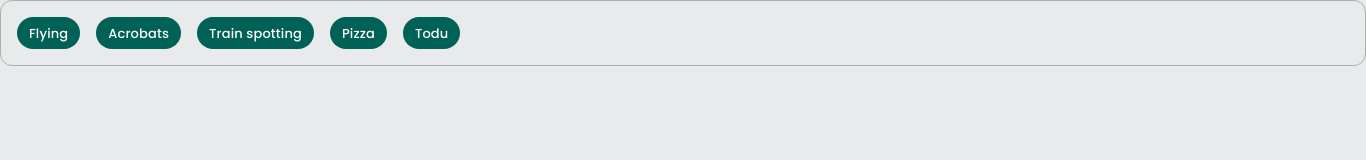
Scenario: SkillsSuggest › replaces suggestions
Expected: the text "Flying" is shown, x1=29 y1=24 x2=68 y2=42
Expected: the text "Onions" is not shown
Click the button "Flying": point(49, 33) x1=17 y1=17 x2=80 y2=49
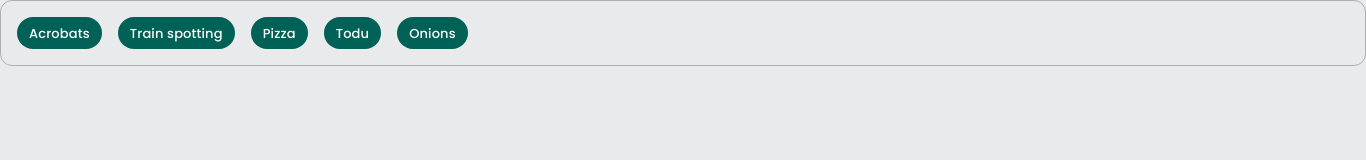
Now the button "Flying" is gone
Now the text "Onions" is shown, box x1=409 y1=24 x2=456 y2=42
